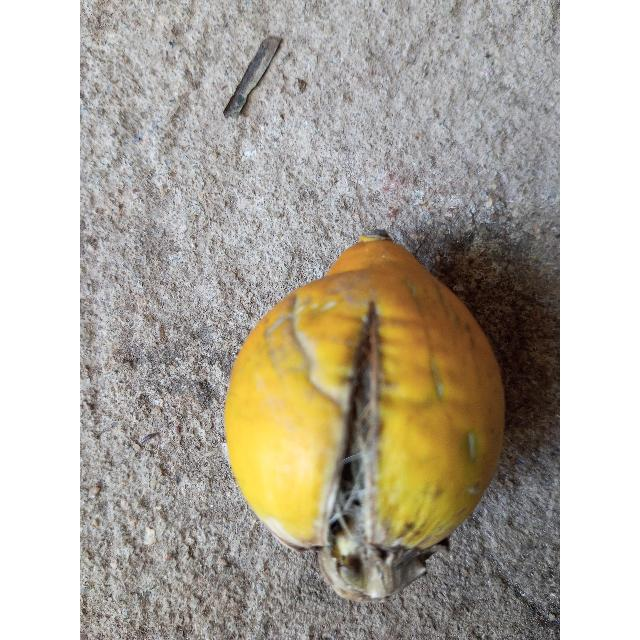damaged: (225, 230, 504, 600)
